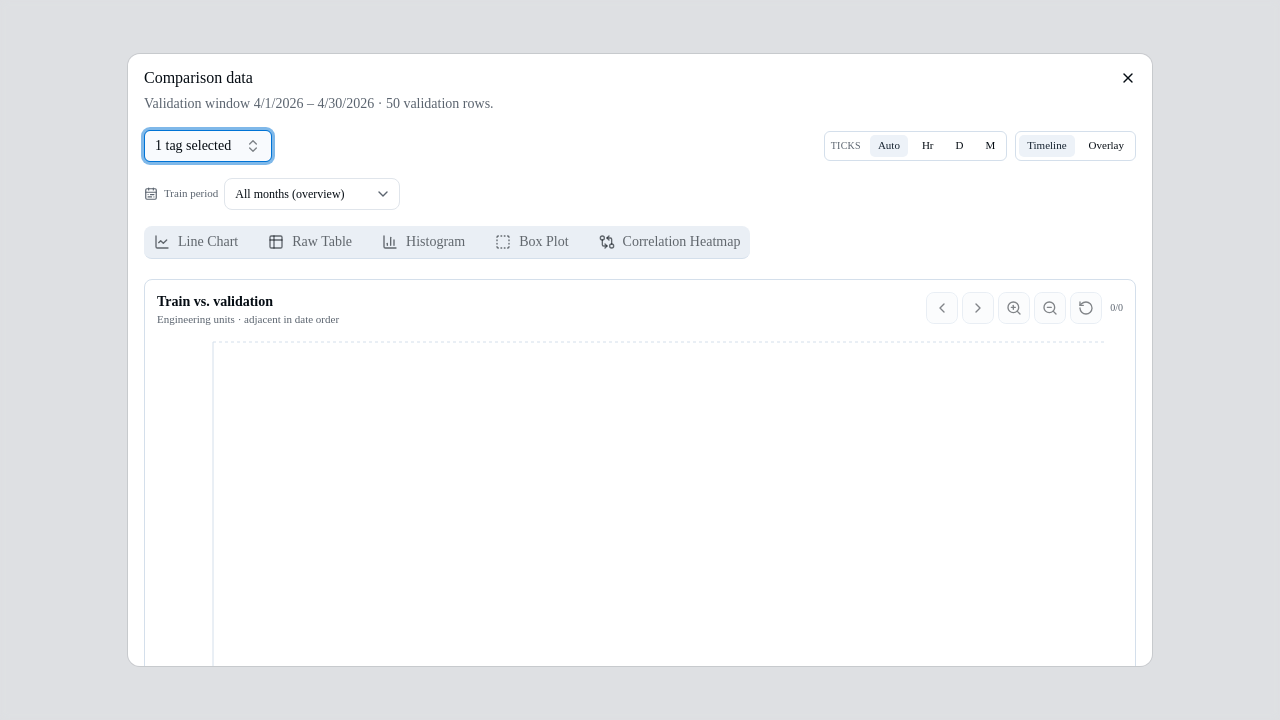
Scenario: DatasetCompareModal — By month (Histogram / Box Plot) › says Histogram heights are counts, and how many rows Validation stands for
Click the tab "Histogram" at coordinates (424, 242), box [375,230,472,254]
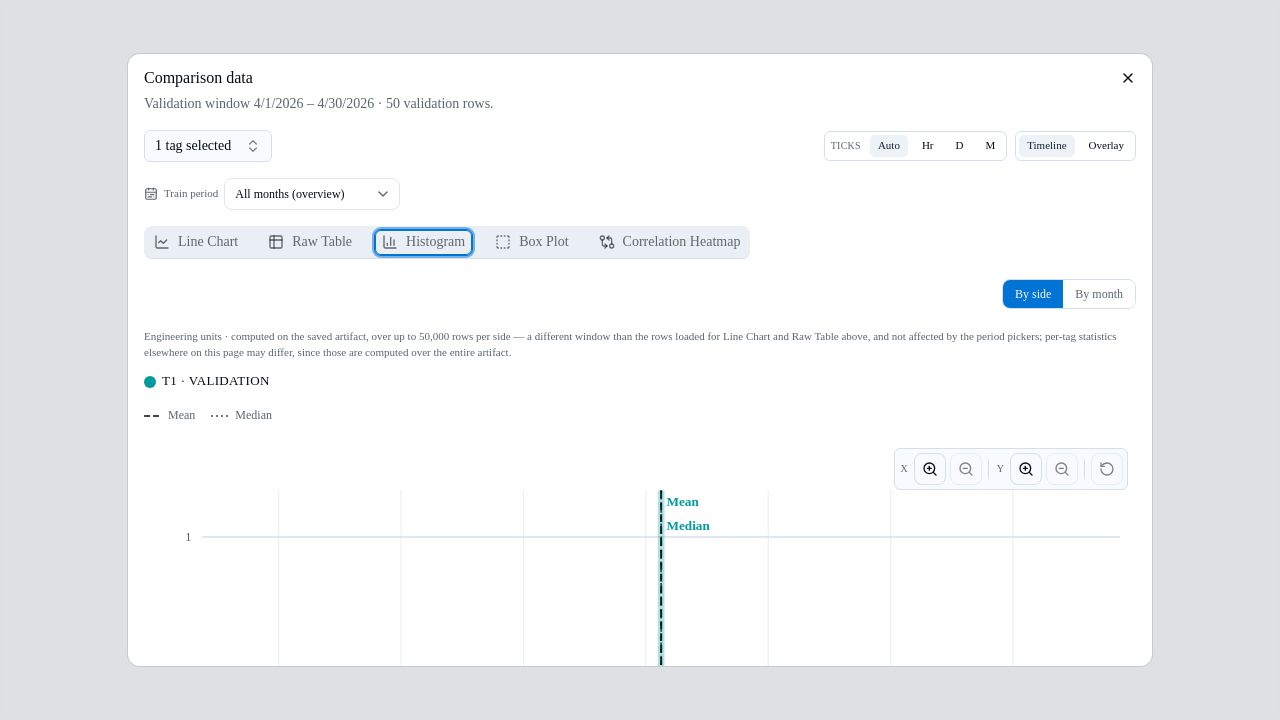
Click the button "By month" at coordinates (1099, 294), box [1063,280,1135,308]
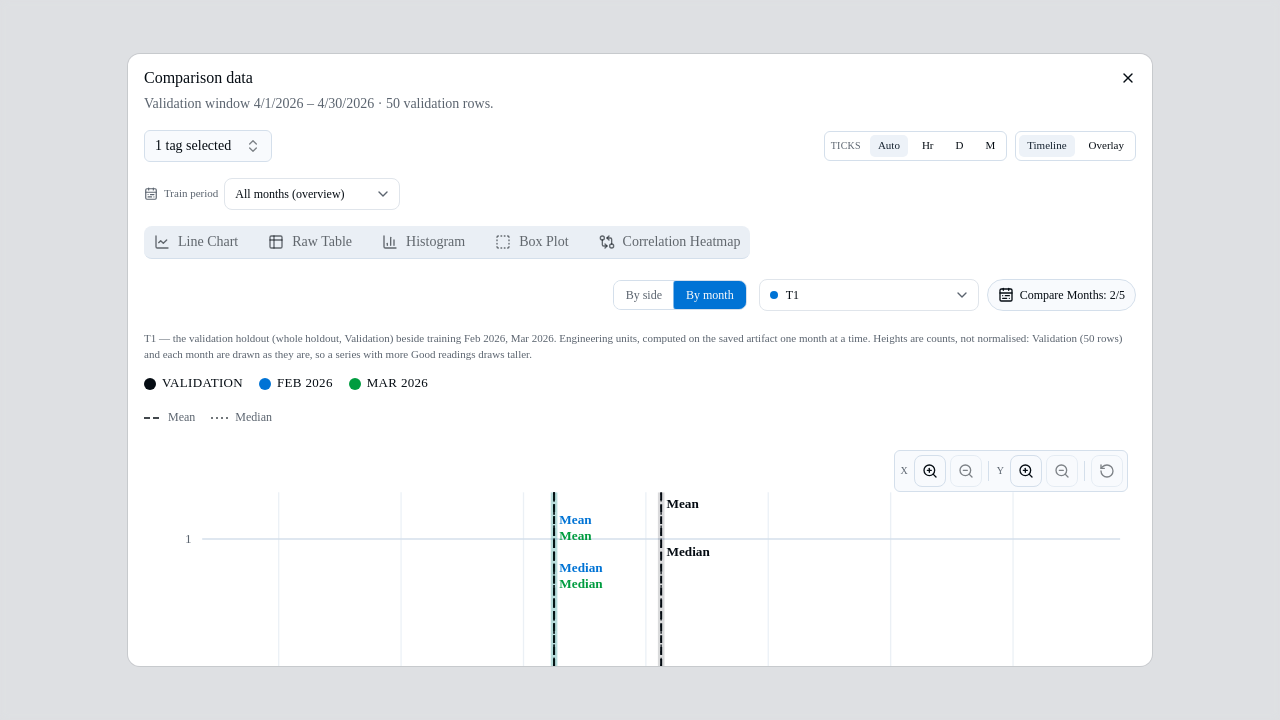
Result: the text "Heights are counts, not normalised: Validation (50 rows)" is shown at [144,332,1122,360]
